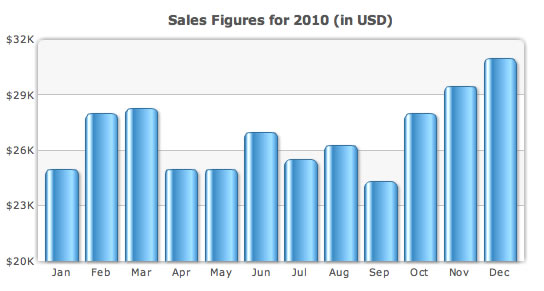S1_AxisNotZero: (9, 10, 534, 289)
